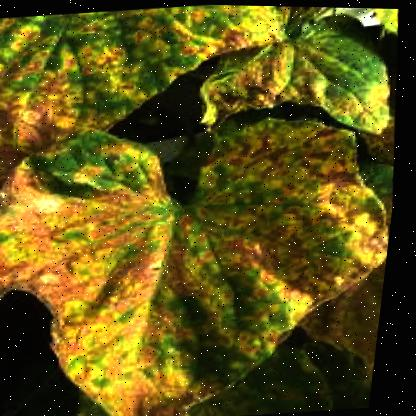Anthracnose: (2, 226, 270, 415), (177, 101, 406, 291), (5, 121, 191, 244), (0, 25, 146, 178)
